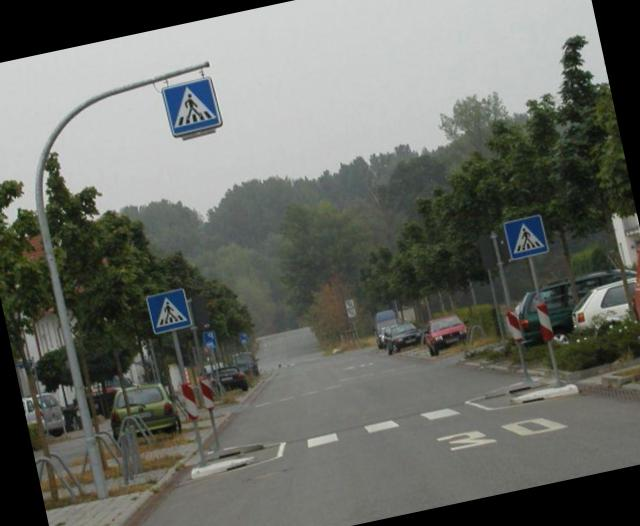crosswalk-sign: (161, 76, 225, 140), (501, 213, 555, 266), (145, 286, 192, 337)
